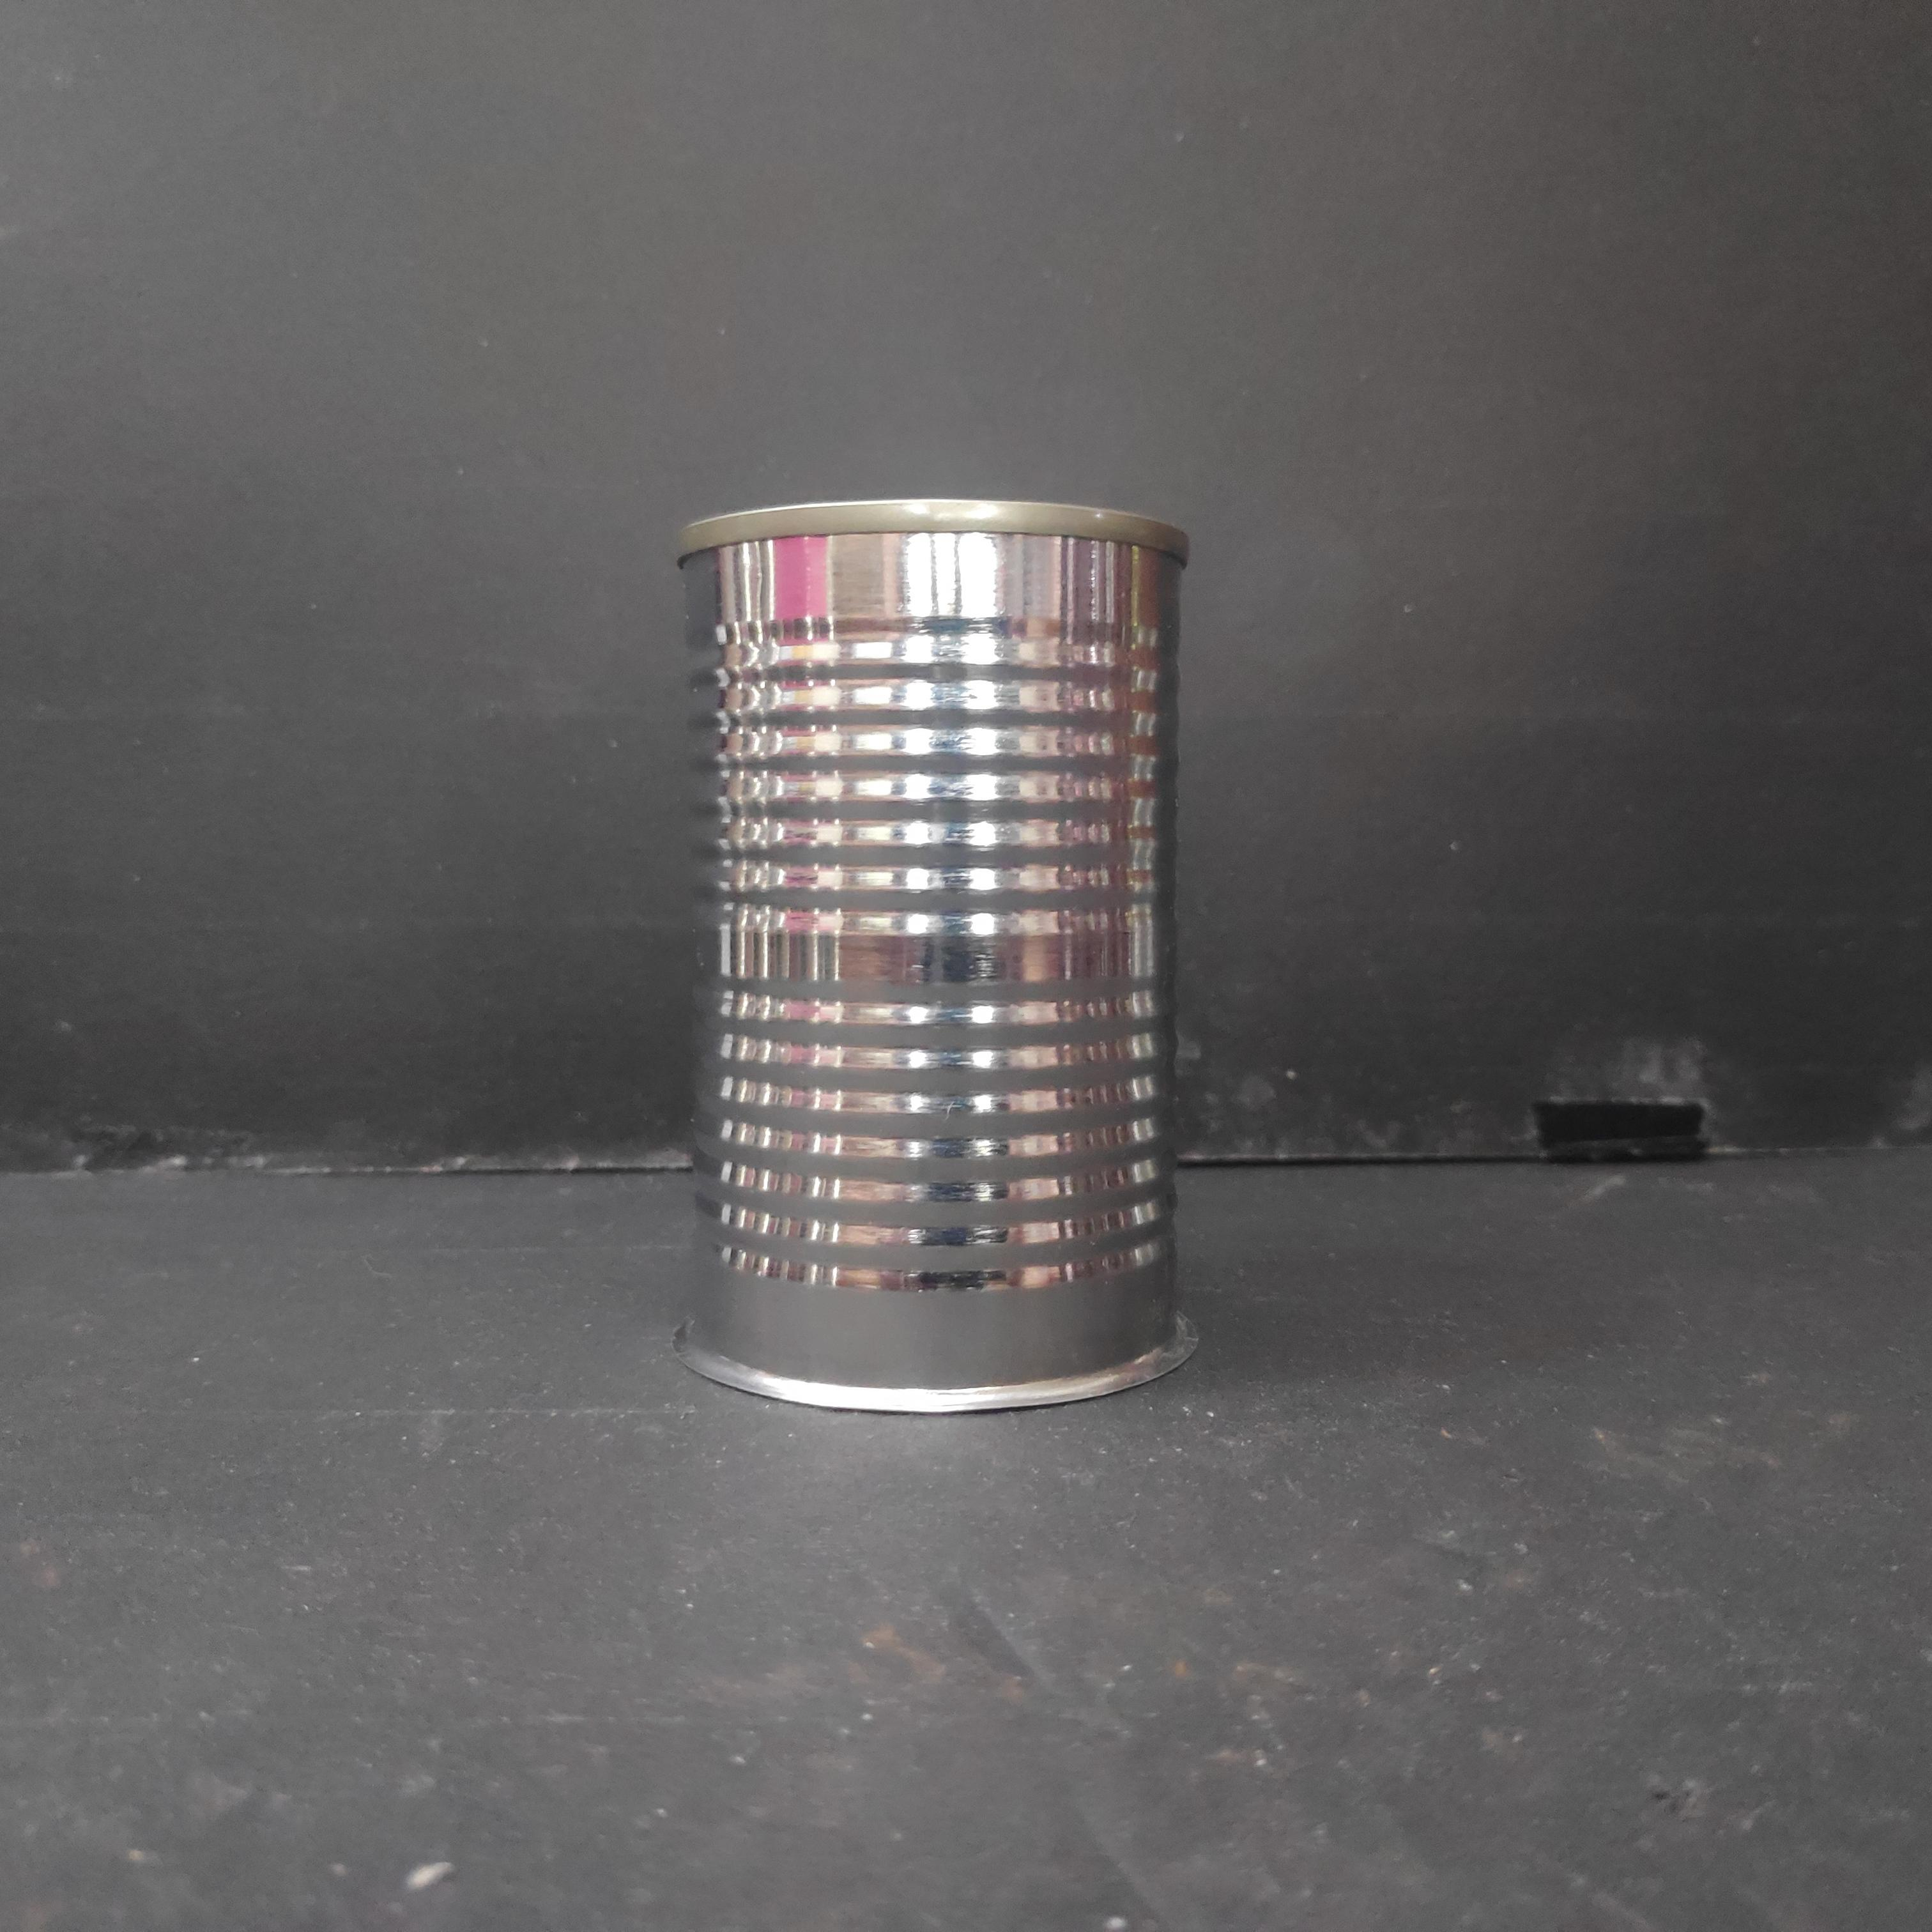No defect: (669, 490, 1196, 1417)
